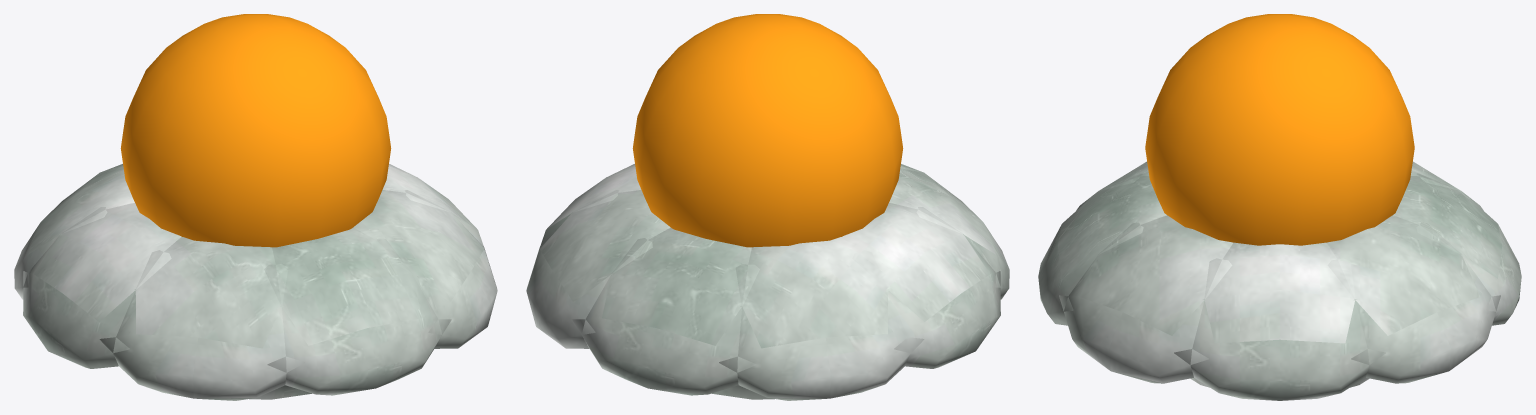
The model's file is spirit_pill.glb.
The picture shows the model from 3 angles, left to right: view 1: azimuth 30°, elevation 25°; view 2: azimuth 150°, elevation 25°; view 3: azimuth 270°, elevation 25°; orthographic projection.
Parts seen in each view (by area): view 1: LotusDish, SpiritPill; view 2: LotusDish, SpiritPill; view 3: LotusDish, SpiritPill.
Boxes of the visible parts, x1,y1,x2,y2 form: LotusDish: (14,164,497,400); SpiritPill: (120,14,391,247); LotusDish: (526,164,1009,400); SpiritPill: (632,14,903,247); LotusDish: (1038,161,1521,400); SpiritPill: (1145,14,1414,245).
Bounding box in the file's own units: 0.1506 × 0.112 × 0.1506.
Materials: 2 (2 with a texture image).
